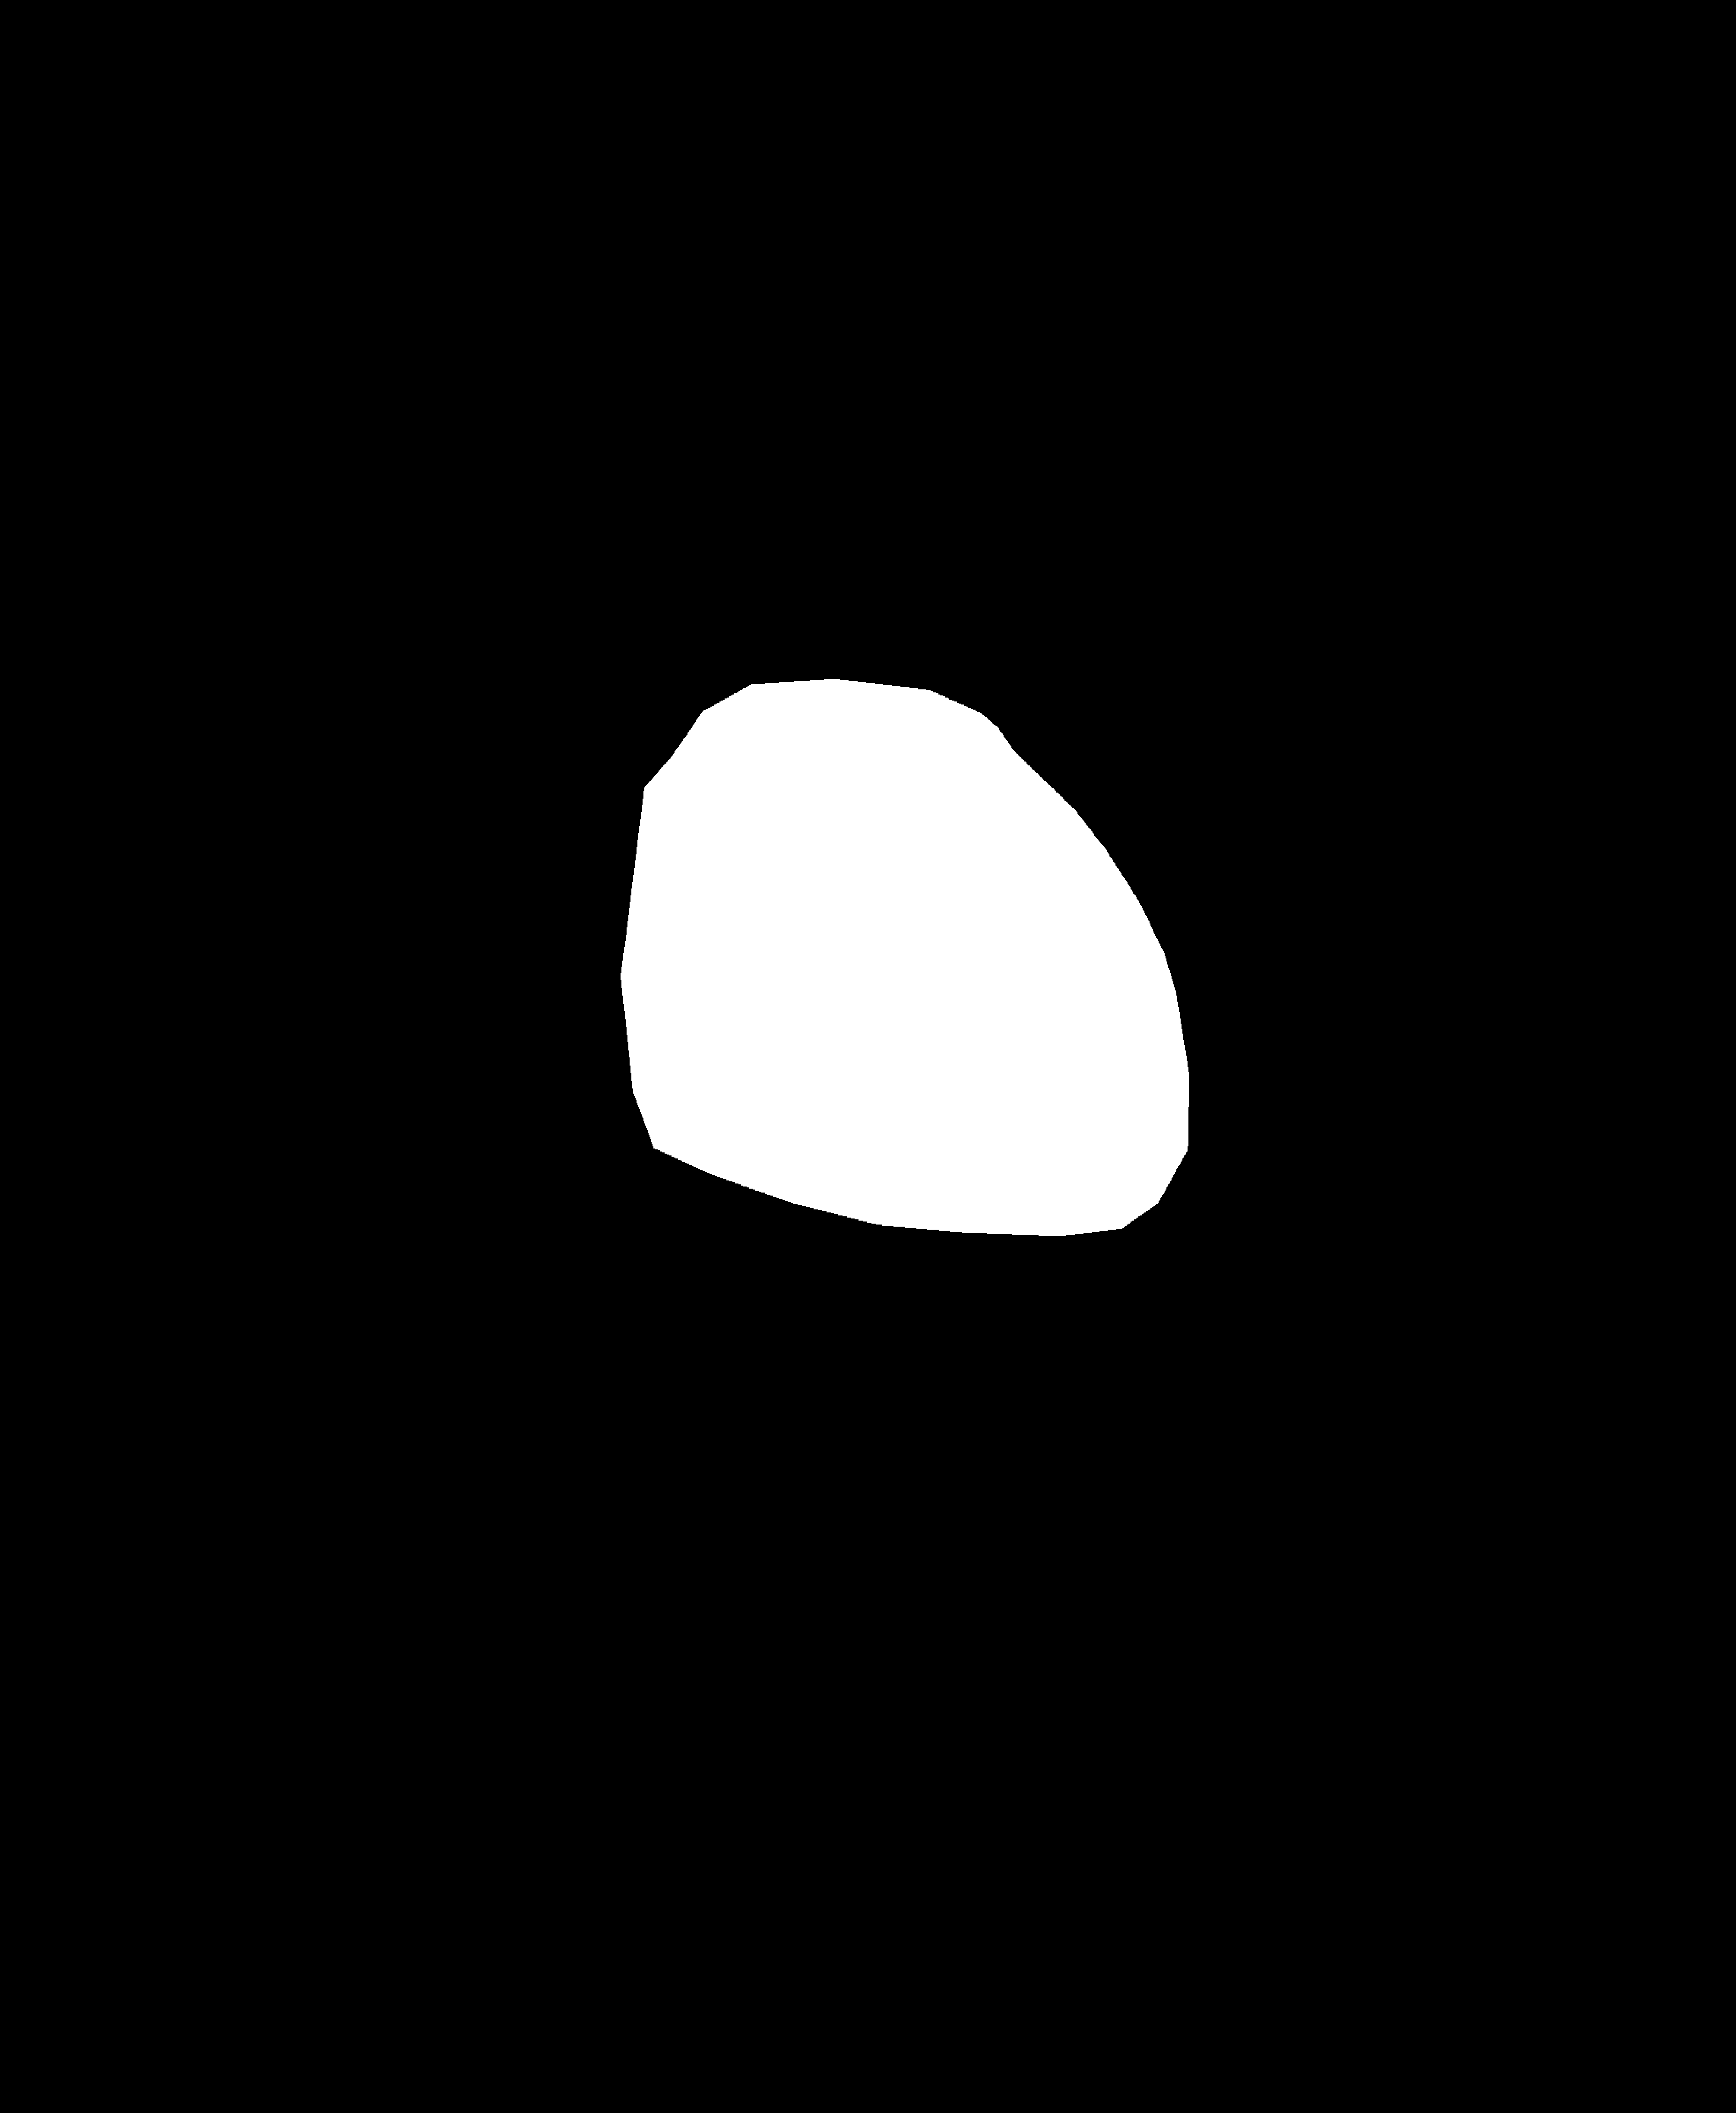heart: (581, 741, 1192, 1248)
left_lung: (104, 111, 744, 1467)
right_lung: (869, 116, 1485, 1436)
